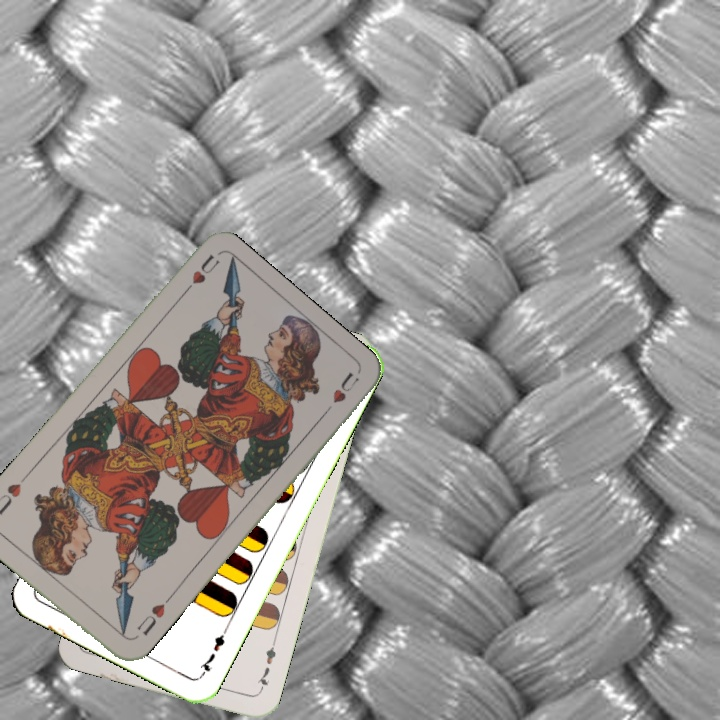E7: (195, 624, 230, 679), (252, 636, 279, 695)
HU: (177, 250, 223, 300), (133, 593, 173, 639)
